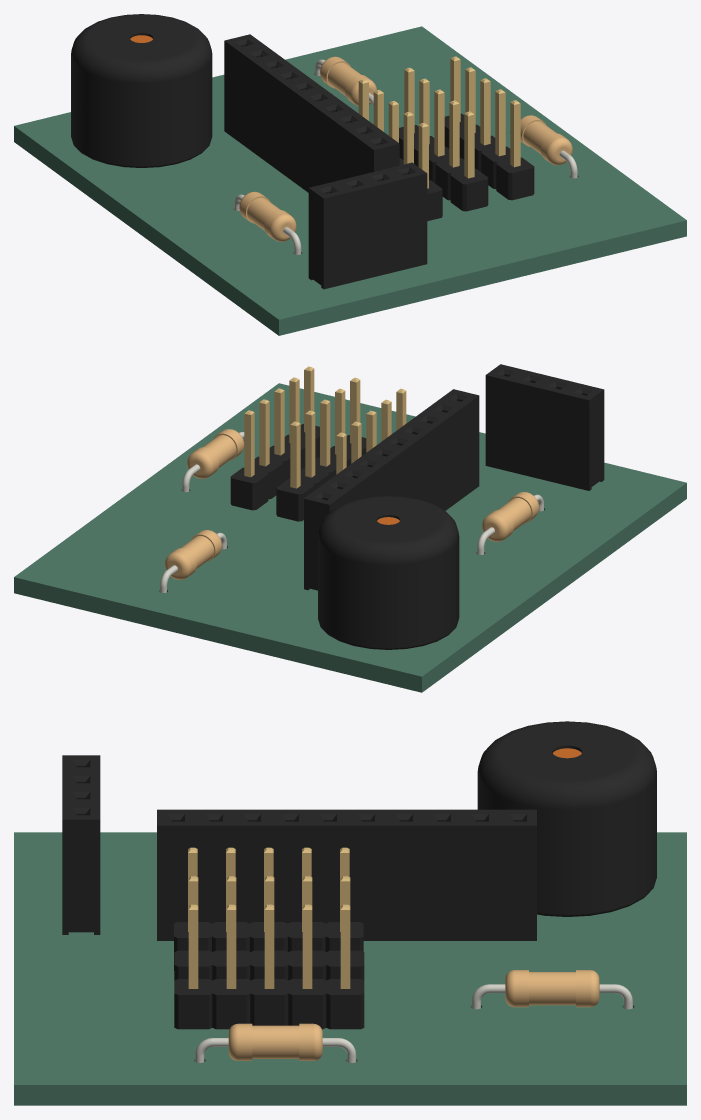
Rendered from pcb.glb.
3 views of the same model, one above another, from view 1: azimuth 30°, elevation 25°; view 2: azimuth 150°, elevation 25°; view 3: azimuth 270°, elevation 25° (orthographic). The views are drawn at different scales.
Visible parts, largest first — view 1: =>[0:1:1:7], BZ1, J4, J5, J3, J2, J1, R2, R3, R1; view 2: =>[0:1:1:7], BZ1, J4, J5, J3, J2, J1, R2, R1, R3; view 3: =>[0:1:1:7], J4, BZ1, J3, J5, J1, J2, R3, R1.
Part boxes in pixels (x1,y1,x2,y2): =>[0:1:1:7]: (14,26,686,335); BZ1: (71,14,212,167); J4: (224,34,399,192); J5: (308,162,427,289); J3: (444,56,534,200); J2: (399,67,488,211); J1: (358,79,442,221); R2: (234,191,301,254); R3: (520,115,577,178); R1: (315,56,376,106); =>[0:1:1:7]: (14,383,686,692); BZ1: (318,496,459,649); J4: (304,389,479,590); J5: (485,364,604,490); J3: (230,366,319,510); J2: (276,377,366,521); J1: (336,388,406,474); R2: (477,492,543,554); R1: (160,530,226,592); R3: (182,429,244,492); =>[0:1:1:7]: (14,832,686,1105); J4: (157,809,536,940); BZ1: (477,721,656,916); J3: (174,904,364,1029); J5: (62,755,100,934); J1: (174,847,363,970); J2: (174,876,364,980); R3: (195,1023,356,1062); R1: (472,970,632,1009).
Bounding box in the file's own units: 0.04 × 0.0126 × 0.045.
